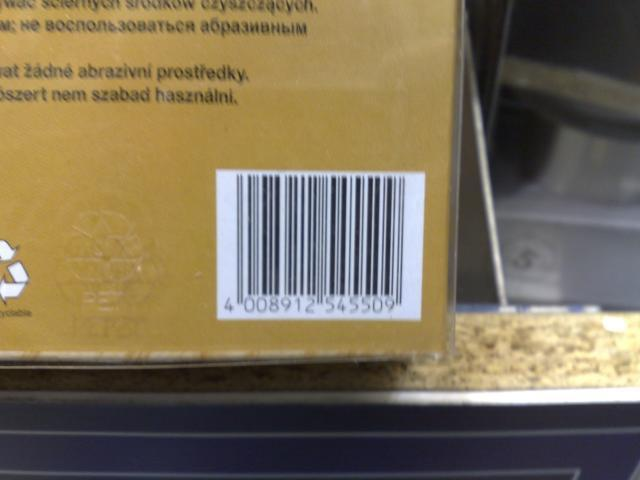Barcode: (217, 169, 424, 322)
